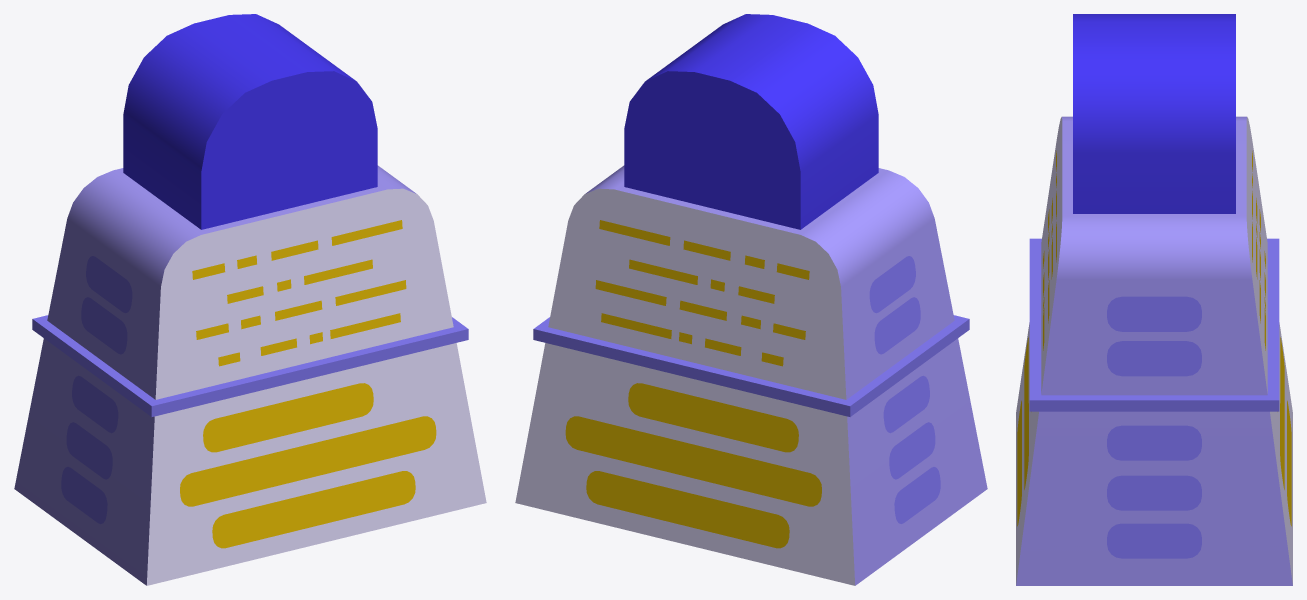
File: Building_028.fbx
3 views of the same model, side by side, from view 1: azimuth 30°, elevation 25°; view 2: azimuth 150°, elevation 25°; view 3: azimuth 270°, elevation 25° (orthographic). The views are drawn at different scales.
Parts seen in each view (by area): view 1: Building_028; view 2: Building_028; view 3: Building_028.
Part boxes in pixels (x1=…): Building_028: x1=14, y1=14, x2=486, y2=585; Building_028: x1=515, y1=14, x2=987, y2=585; Building_028: x1=1016, y1=14, x2=1292, y2=585.
Size of the model in its own units: 30.74 by 38.73 by 20.75.
